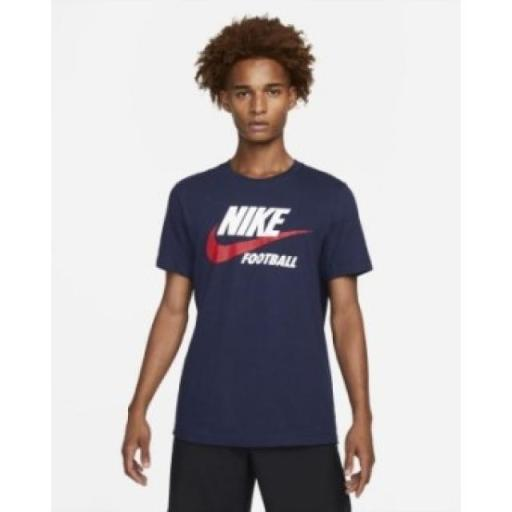Nike: (205, 228, 307, 264), (214, 206, 289, 238)
